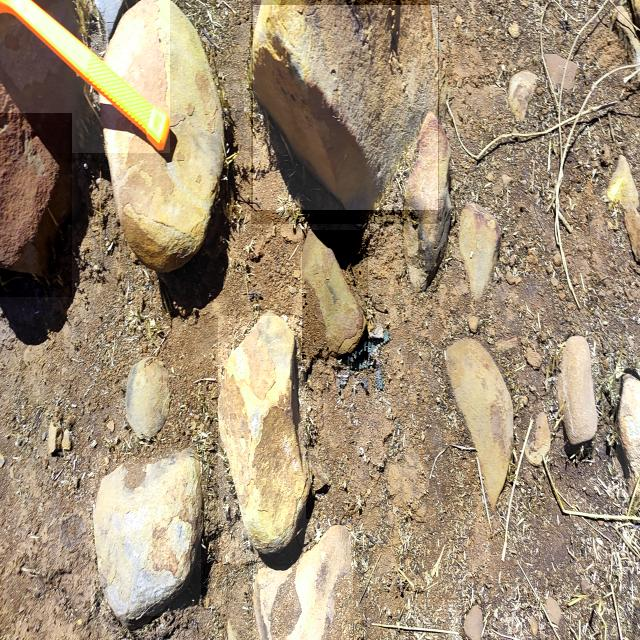Orange_hammer: (1, 0, 170, 153)
rock: (251, 0, 439, 224), (253, 5, 438, 210), (218, 316, 306, 563), (91, 458, 201, 616), (0, 114, 72, 298), (442, 338, 515, 512), (253, 519, 353, 640), (302, 230, 368, 360), (556, 337, 597, 454), (126, 357, 172, 438), (616, 367, 640, 497)
